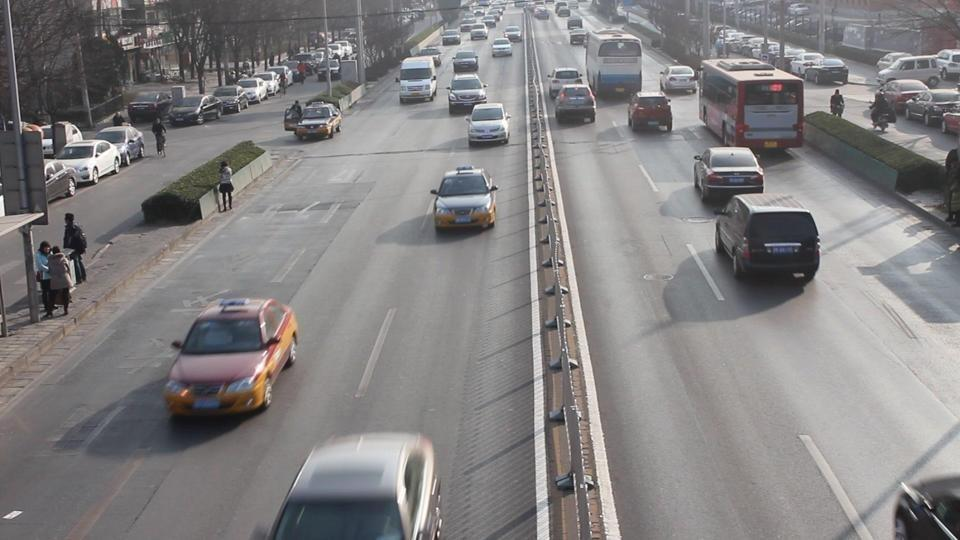car: (269, 430, 443, 539), (162, 295, 300, 416), (714, 192, 822, 283), (429, 164, 499, 230), (692, 145, 766, 206), (894, 472, 960, 539), (54, 140, 122, 186), (454, 79, 504, 140), (877, 55, 951, 89), (287, 101, 344, 141), (904, 87, 960, 127), (94, 125, 144, 165), (166, 93, 223, 127), (466, 103, 511, 146), (627, 92, 674, 132), (791, 53, 849, 85), (555, 84, 596, 126), (127, 89, 176, 123), (447, 74, 488, 114), (44, 159, 78, 202), (658, 65, 698, 96), (547, 66, 581, 101), (208, 86, 250, 114), (236, 77, 270, 104), (450, 48, 479, 74), (567, 16, 587, 46), (490, 37, 513, 58), (941, 111, 960, 135)
